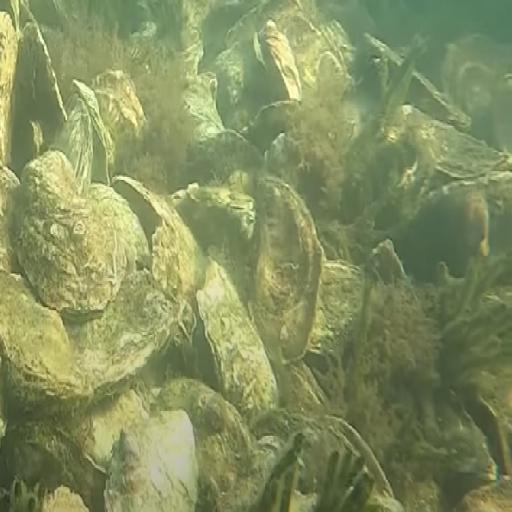Oyster-Closed: (1, 185, 175, 400), (16, 155, 129, 314), (246, 168, 323, 358), (199, 260, 283, 418), (157, 383, 257, 498), (108, 406, 200, 512), (400, 106, 506, 177), (92, 73, 147, 177), (57, 95, 95, 188)
Oyster-Open: (451, 383, 512, 494)
